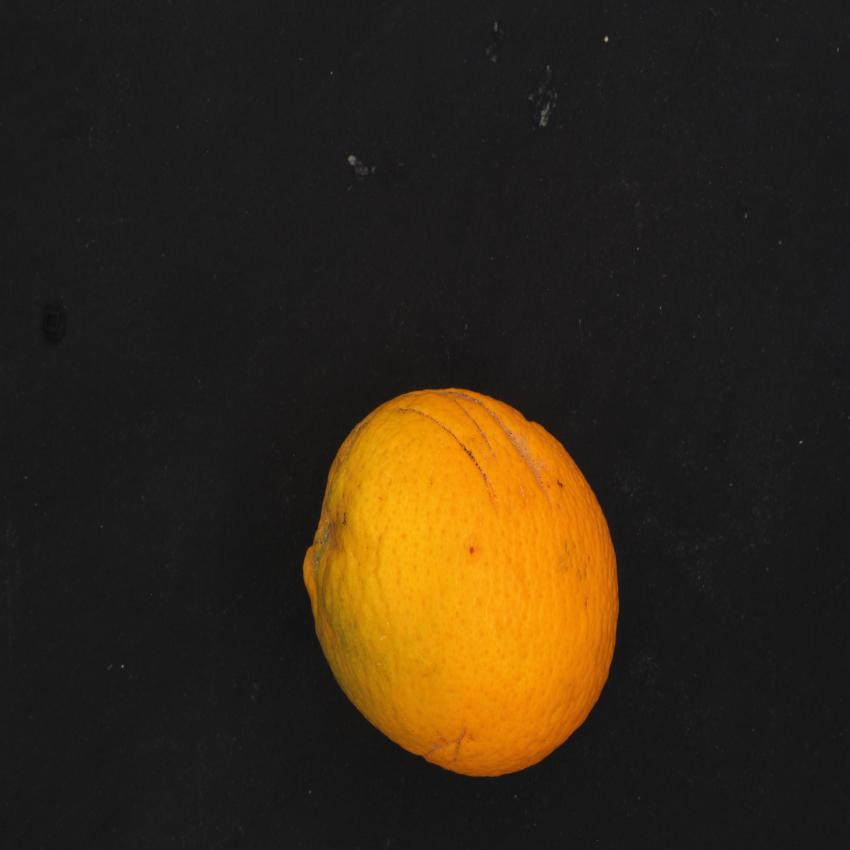Buen estado: (296, 368, 630, 792)
